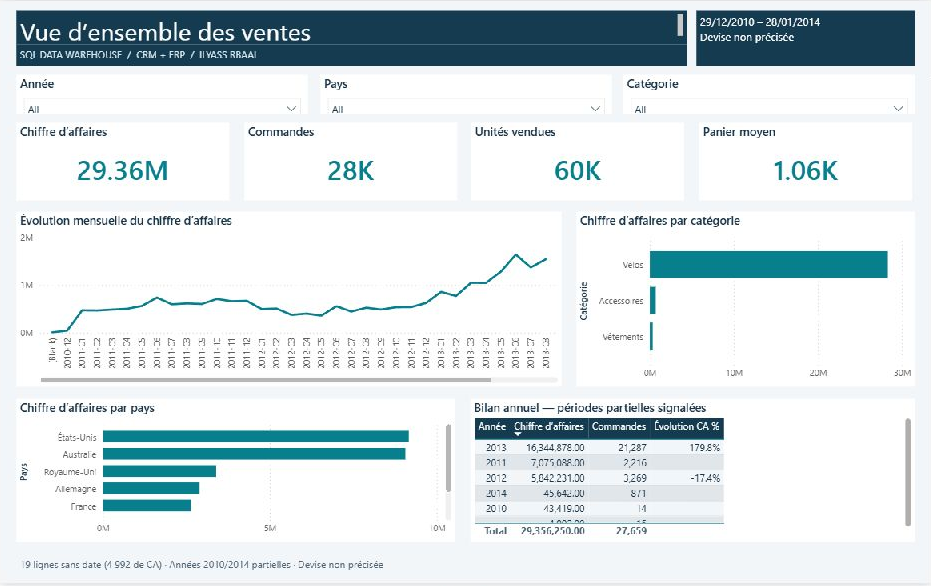

The dashboard page shown, as its layout file describes it:
{"tool":"powerbi","page":{"name":"01 · Synthèse","canvas":[1280,800],"ordinal":0},"visuals":[{"type":"textbox","box":[24,14,920,46],"z":0},{"type":"textbox","box":[24,61,920,29],"z":1},{"type":"textbox","box":[956,14,300,76],"z":2},{"type":"slicer","title":"Année","fields":{"Values":["Calendrier.Année"]},"box":[24,102,400,54],"z":3},{"type":"slicer","title":"Pays","fields":{"Values":["Clients.Pays"]},"box":[440,102,400,54],"z":4},{"type":"slicer","title":"Catégorie","fields":{"Values":["Produits.Catégorie"]},"box":[856,102,400,54],"z":5},{"type":"textbox","box":[24,759,1232,28],"z":6},{"type":"card","title":"Chiffre d’affaires","fields":{"Values":["Ventes.Chiffre d’affaires"]},"box":[24,168,292,106],"z":21},{"type":"card","title":"Commandes","fields":{"Values":["Ventes.Commandes"]},"box":[336,168,292,106],"z":22},{"type":"card","title":"Unités vendues","fields":{"Values":["Ventes.Unités vendues"]},"box":[648,168,292,106],"z":23},{"type":"card","title":"Panier moyen","fields":{"Values":["Ventes.Panier moyen"]},"box":[960,168,292,106],"z":24},{"type":"lineChart","title":"Évolution mensuelle du chiffre d’affaires","fields":{"Category":["Calendrier.Année-mois"],"Y":["Ventes.Chiffre d’affaires"]},"box":[24,290,748,240],"z":25},{"type":"barChart","title":"Chiffre d’affaires par catégorie","fields":{"Category":["Produits.Catégorie"],"Y":["Ventes.Chiffre d’affaires"]},"box":[792,290,464,240],"z":26},{"type":"barChart","title":"Chiffre d’affaires par pays","fields":{"Category":["Clients.Pays"],"Y":["Ventes.Chiffre d’affaires"]},"box":[24,546,602,196],"z":27},{"type":"tableEx","title":"Bilan annuel — périodes partielles signalées","fields":{"Values":["Calendrier.Année","Ventes.Chiffre d’affaires","Ventes.Commandes","Ventes.Évolution CA %"]},"box":[646,546,610,196],"z":28}]}

Visuals, with their boxes in screenshot pixels (x1, y1, x2, y2), scaled from the page's 1280x800 canvas onto the 931x586 screenshot:
textbox: bbox=[17, 10, 687, 44]
textbox: bbox=[17, 45, 687, 66]
textbox: bbox=[695, 10, 914, 66]
"Année" slicer: bbox=[17, 75, 308, 114]
"Pays" slicer: bbox=[320, 75, 611, 114]
"Catégorie" slicer: bbox=[623, 75, 914, 114]
textbox: bbox=[17, 556, 914, 576]
"Chiffre d’affaires" card: bbox=[17, 123, 230, 201]
"Commandes" card: bbox=[244, 123, 457, 201]
"Unités vendues" card: bbox=[471, 123, 684, 201]
"Panier moyen" card: bbox=[698, 123, 911, 201]
"Évolution mensuelle du chiffre d’affaires" lineChart: bbox=[17, 212, 562, 388]
"Chiffre d’affaires par catégorie" barChart: bbox=[576, 212, 914, 388]
"Chiffre d’affaires par pays" barChart: bbox=[17, 400, 455, 544]
"Bilan annuel — périodes partielles signalées" tableEx: bbox=[470, 400, 914, 544]
